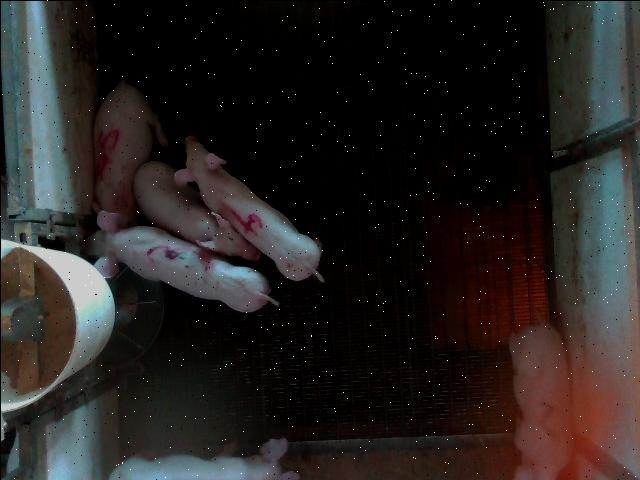pig-1: (108, 436, 299, 479)
pig-2: (509, 322, 572, 478)
pig-3: (85, 212, 278, 311)
pig-4: (175, 135, 322, 280)
pig-5: (92, 76, 169, 227)
